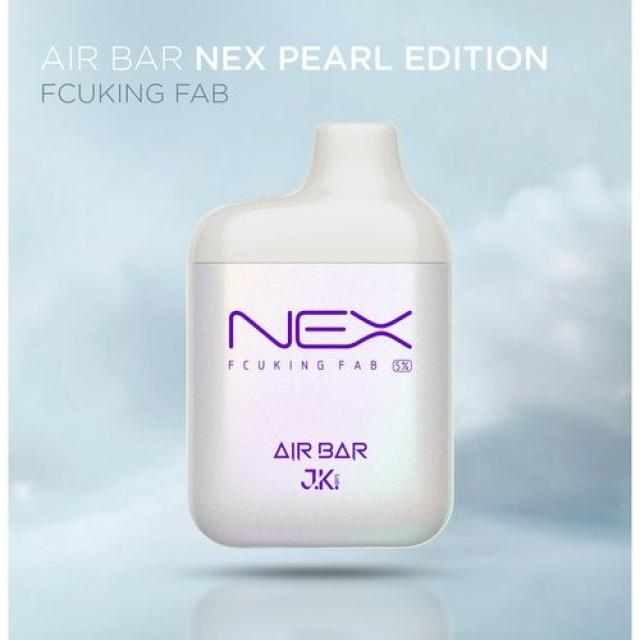Hazard: (184, 119, 454, 549)
